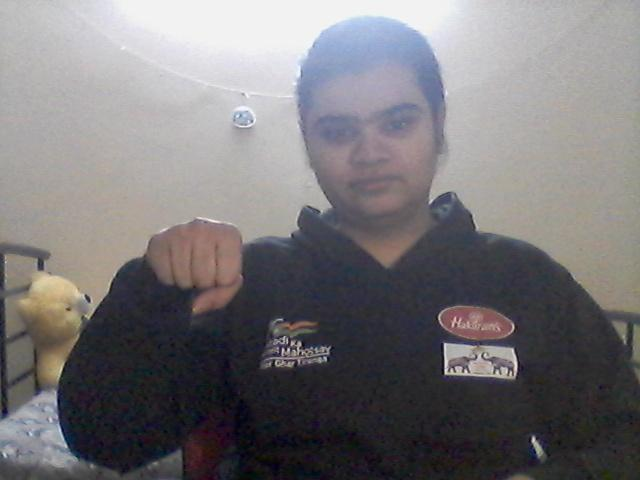yes: (143, 216, 254, 305)
